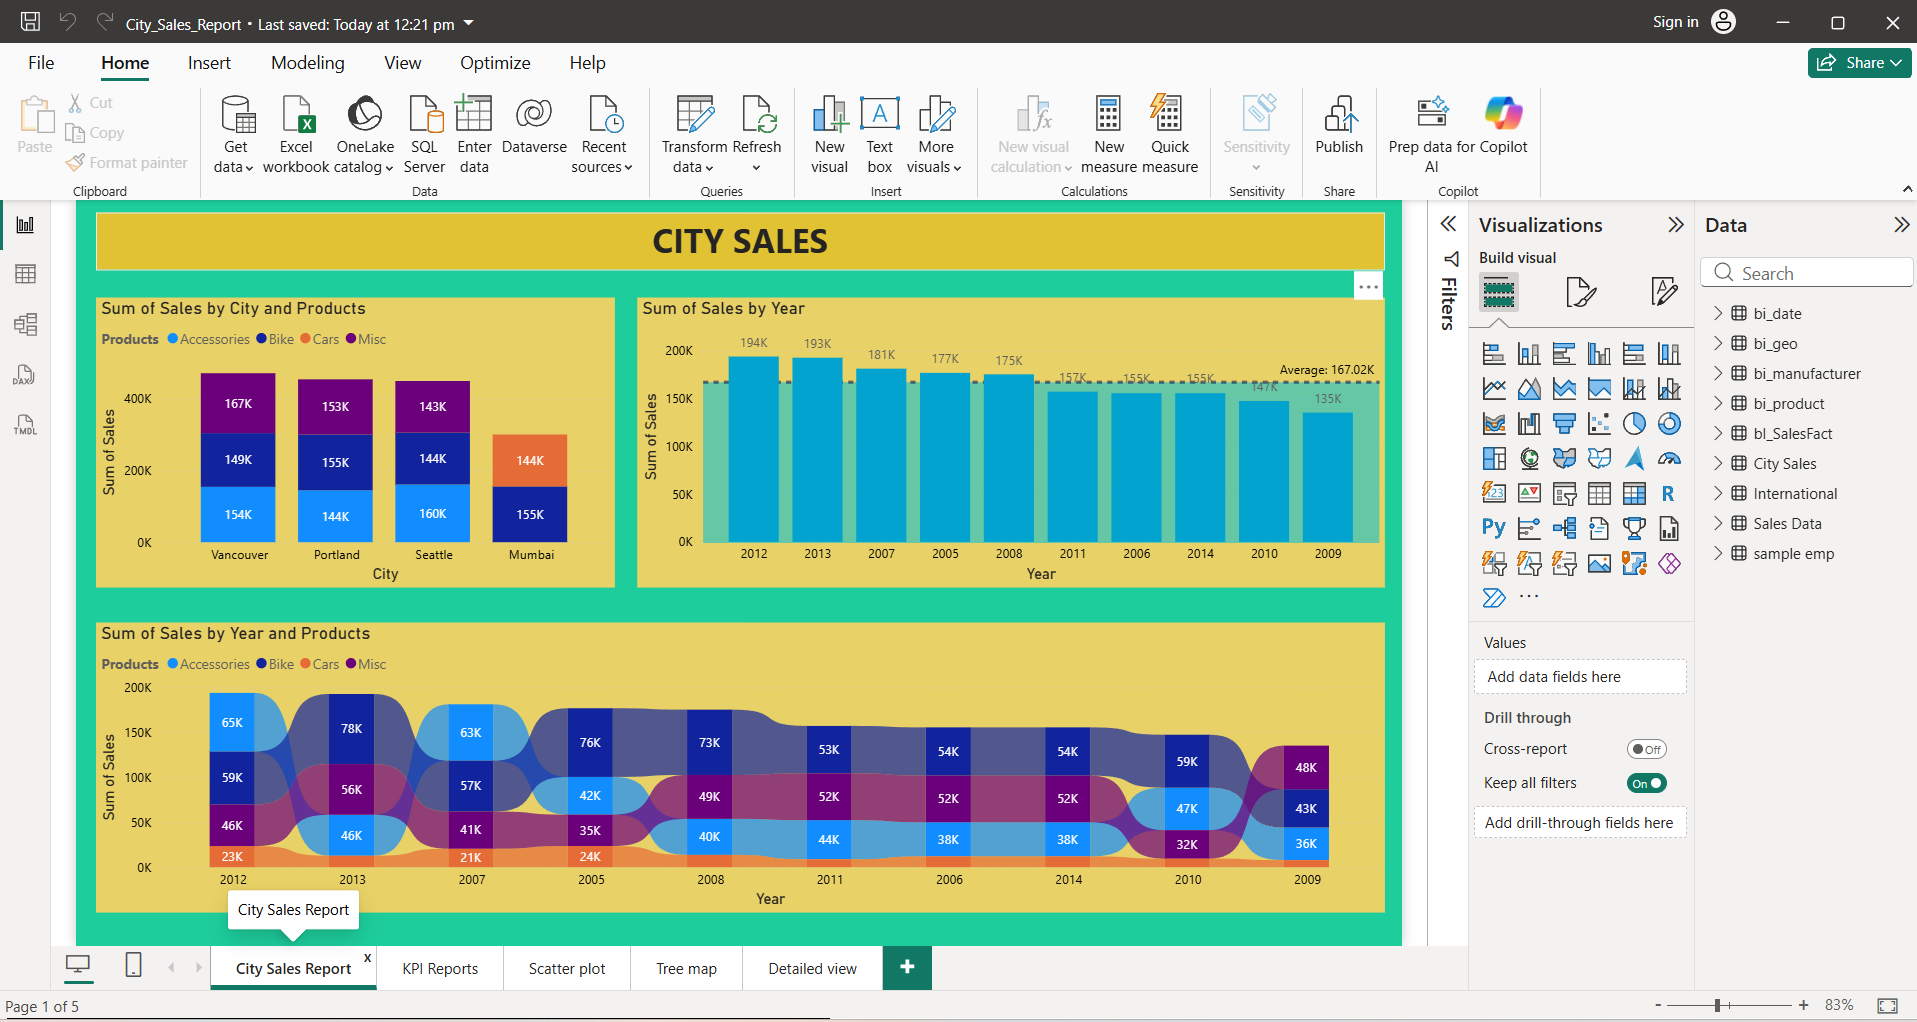

What the dashboard file says about the page in this screenshot:
{"tool":"powerbi","page":{"name":"City Sales Report","canvas":[1280,720],"ordinal":0},"visuals":[{"type":"columnChart","fields":{"Category":["Sales Data.City"],"Y":["Sum(Sales Data.Sales)"],"Series":["Sales Data.Products"]},"box":[19.3,94.1,500.7,279.9],"z":0},{"type":"clusteredColumnChart","fields":{"Category":["Sales Data.Year"],"Y":["Sum(Sales Data.Sales)"]},"box":[541.7,94.1,721.5,279.9],"z":1000},{"type":"ribbonChart","fields":{"Category":["Sales Data.Year"],"Y":["Sum(Sales Data.Sales)"],"Series":["Sales Data.Products"]},"box":[19.3,407.8,1243.8,279.9],"z":2000},{"type":"textbox","box":[19.3,12.1,1243.8,55.5],"z":3000}]}

Visuals, with their boxes on the page's 1280x720 design canvas (x1, y1, x2, y2). These are canvas units, not pixel positions in the 1917x1022 screenshot, which may show the page scaled, cropped or inside an application window:
columnChart - Sales Data.City x Sum(Sales Data.Sales): 19,94,520,374
clusteredColumnChart - Sales Data.Year x Sum(Sales Data.Sales): 542,94,1263,374
ribbonChart - Sales Data.Year x Sum(Sales Data.Sales): 19,408,1263,688
textbox: 19,12,1263,68
